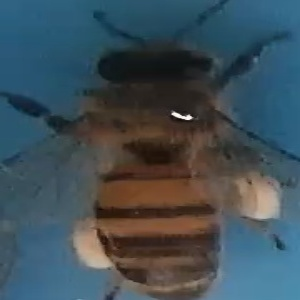bee: (38, 13, 292, 300)
